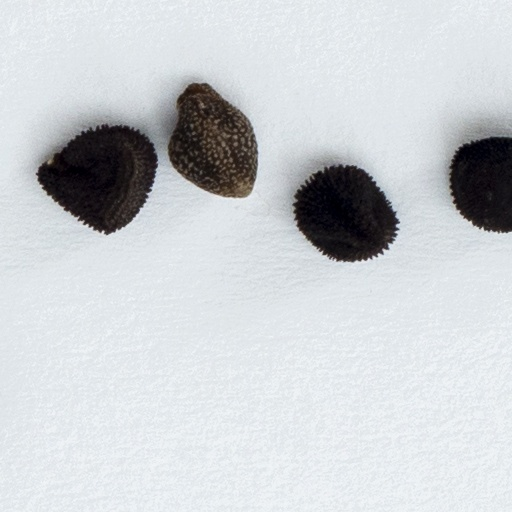Agrostemma-poly: (33, 123, 157, 240)
Convolvulus-poly: (163, 70, 258, 196)
